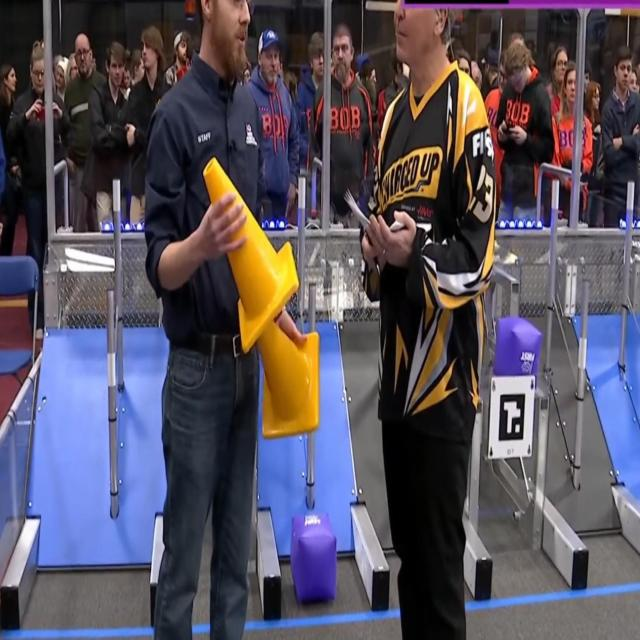frc_cone: (203, 154, 300, 352), (254, 316, 320, 439)
frc_cube: (290, 512, 337, 602), (494, 315, 540, 383)
